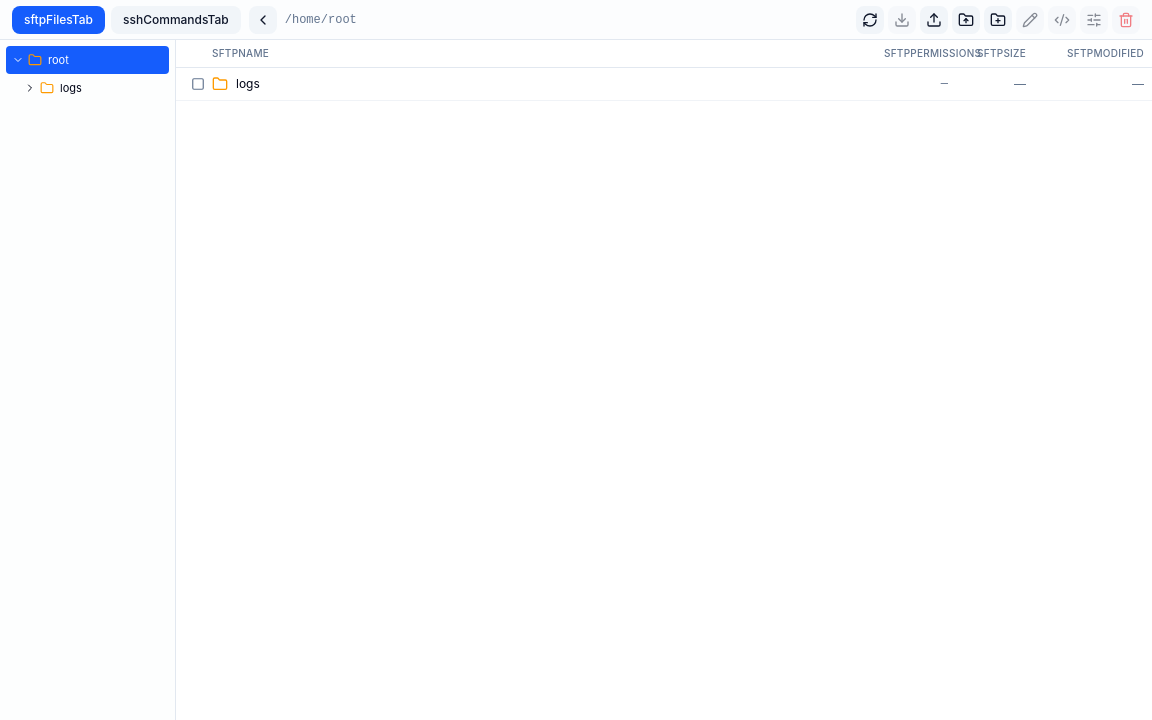
Scenario: SFTP panel › retries a failed tree read without losing the expanded parent
Expected: the button "logs — — —" is shown, [212,68,1144,100]
Click the button named "sftpToggleDirectory logs" at (30, 88), box [20,78,40,98]
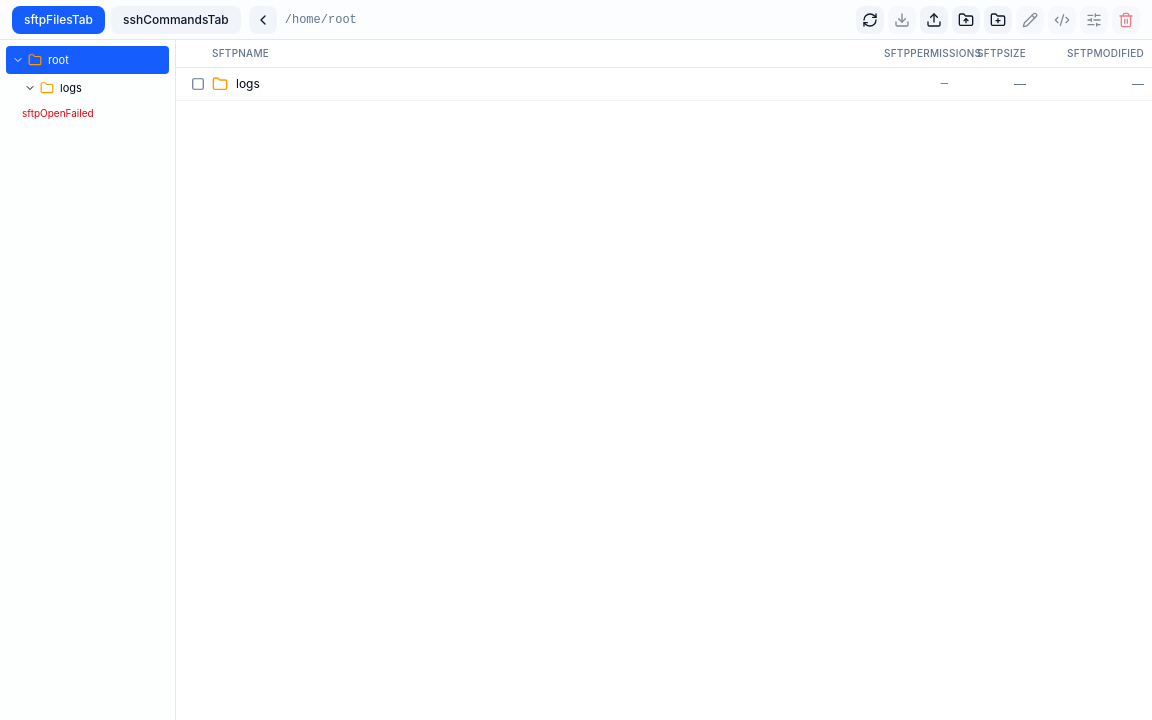
Result: the message reads "sftpOpenFailed" at [22,107,94,119]
Click the button named "sftpToggleDirectory logs" at (30, 88), box [20,78,40,98]
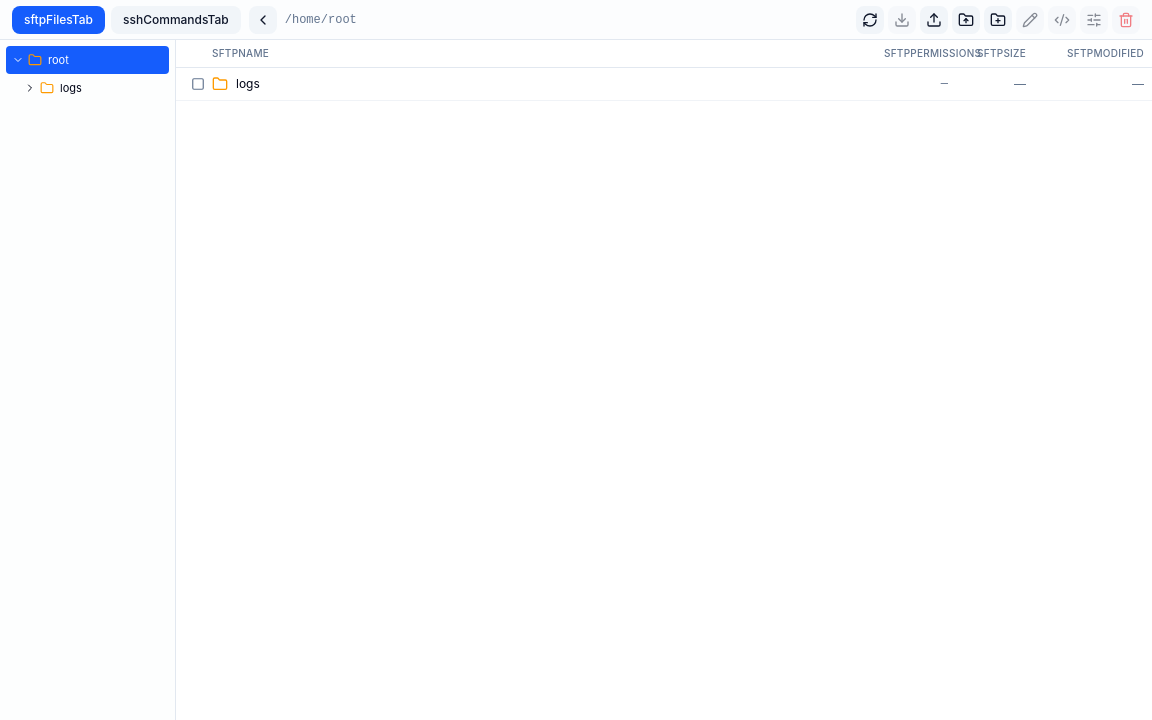
Click the button named "sftpToggleDirectory logs" at (30, 88), box [20,78,40,98]
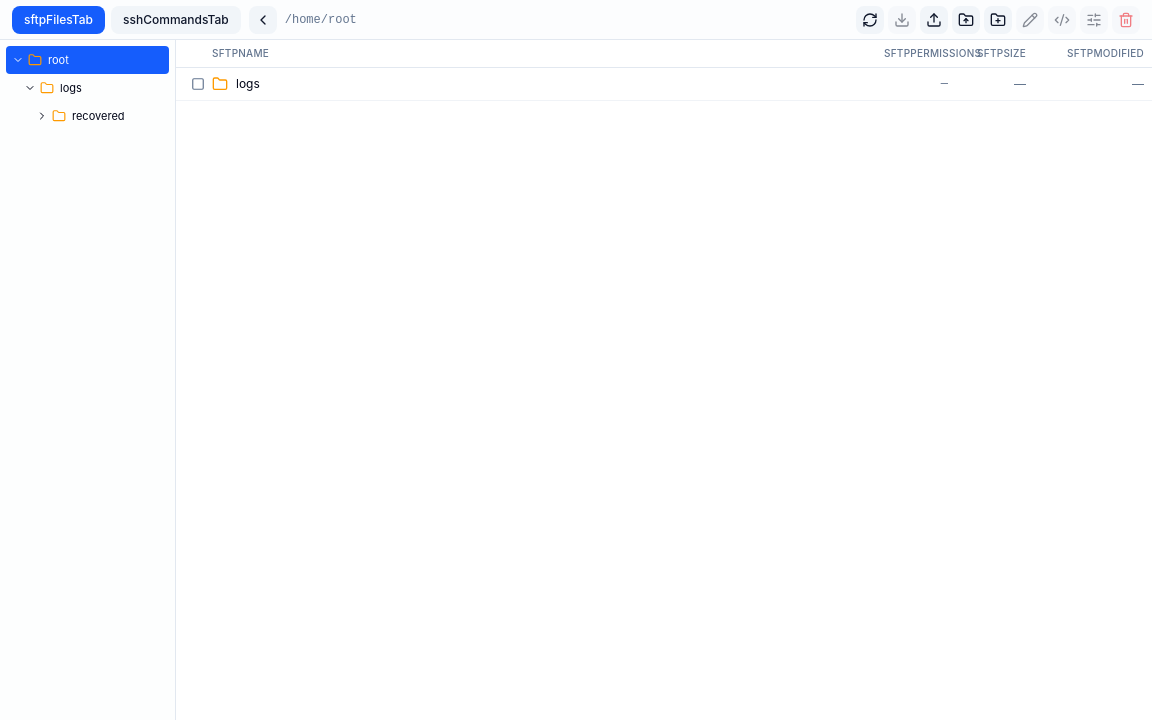
Expected: the message "sftpOpenFailed" is not shown
Result: the text "recovered" is shown at [72,108,124,124]
Result: the button named "sftpToggleDirectory logs" is expanded at [20,78,40,98]
